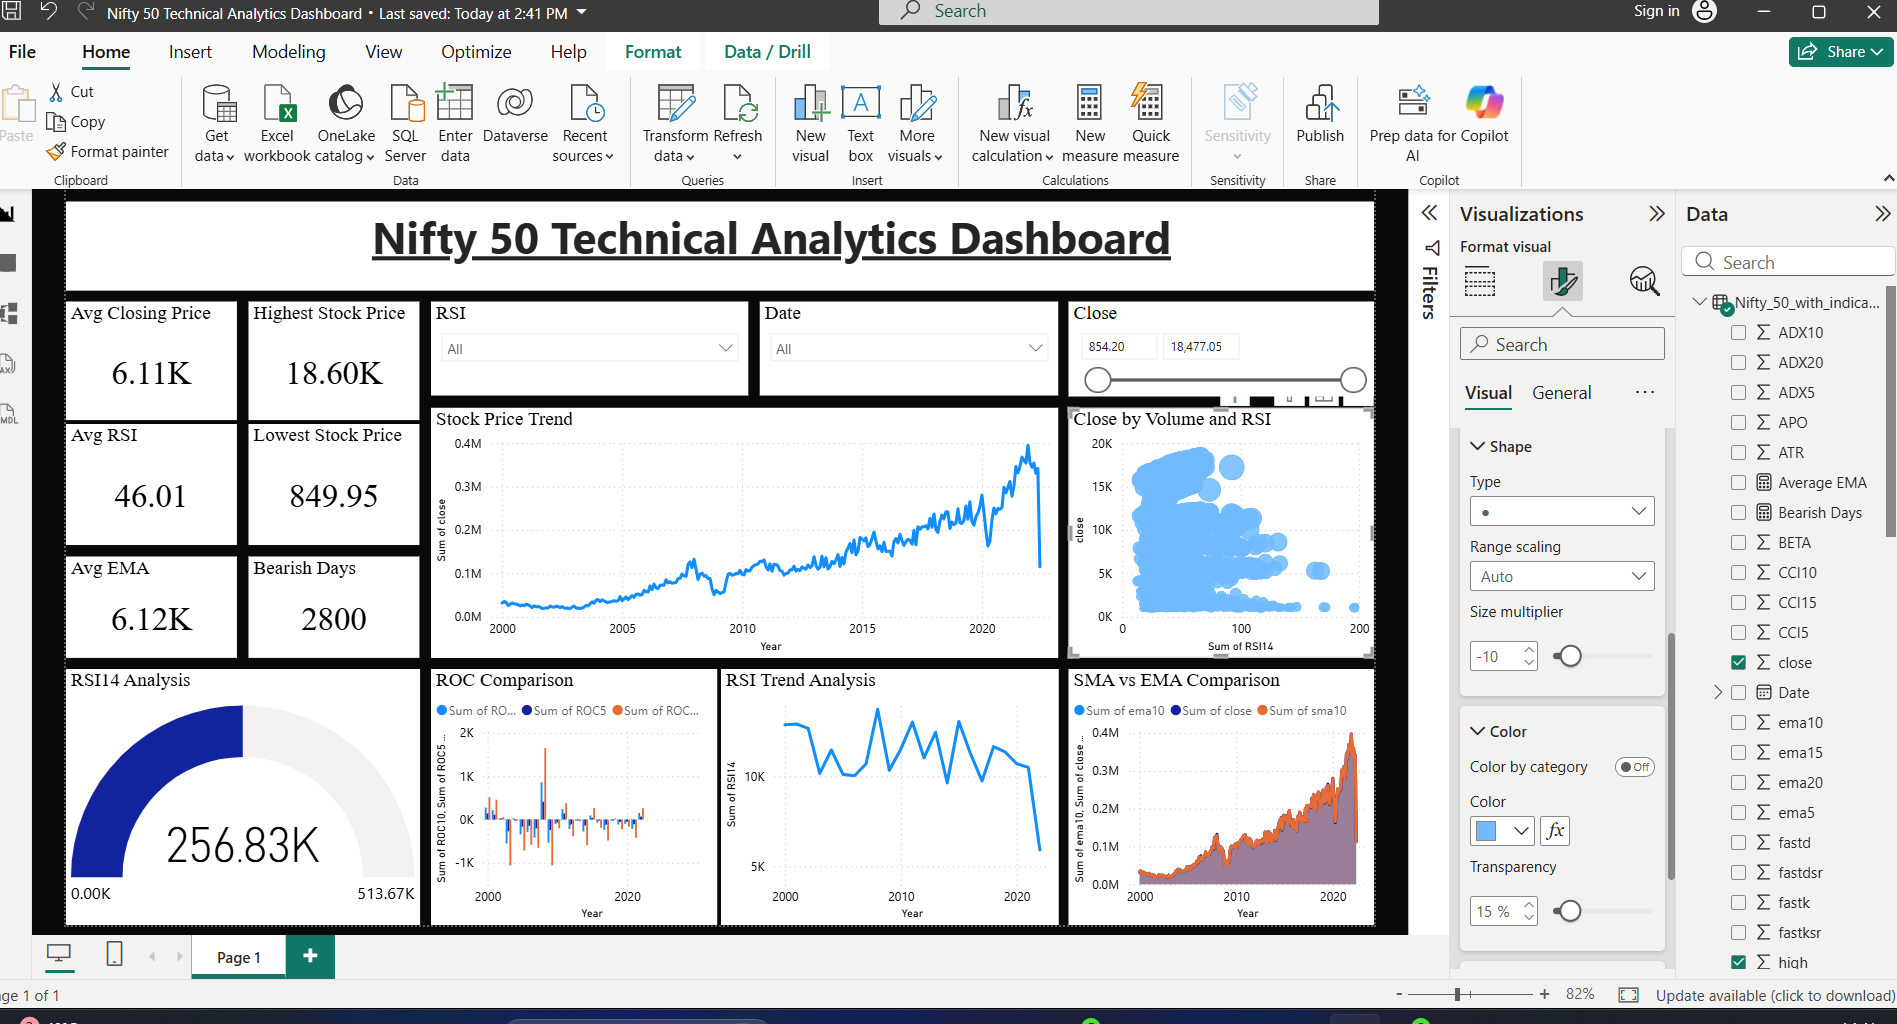

This screenshot's page, from the dashboard's own definition file:
{"tool":"powerbi","page":{"name":"Page 1","canvas":[1280,720],"ordinal":0},"visuals":[{"type":"card","title":"Avg Closing Price","fields":{"Values":["Avg(Nifty_50_with_indicators_.close)"]},"box":[0,110.1,167.5,116.2],"z":0},{"type":"card","title":"Avg RSI","fields":{"Values":["Avg(Nifty_50_with_indicators_.RSI14)"]},"box":[0,229.9,167.5,118.6],"z":1000},{"type":"card","title":"Avg EMA","fields":{"Values":["Nifty_50_with_indicators_.Average EMA"]},"box":[0,359.5,167.5,99],"z":2000},{"type":"card","title":"Highest Stock Price","fields":{"Values":["Max(Nifty_50_with_indicators_.high)"]},"box":[178.5,110.1,167.5,116.2],"z":3000},{"type":"card","title":"Lowest Stock Price","fields":{"Values":["Min(Nifty_50_with_indicators_.low)"]},"box":[178.5,229.9,167.5,118.6],"z":4000},{"type":"card","title":"Bearish Days","fields":{"Values":["Nifty_50_with_indicators_.Bearish Days"]},"box":[178.5,359.5,167.5,99],"z":5000},{"type":"scatterChart","title":"Close by Volume and RSI","fields":{"X":["Sum(Nifty_50_with_indicators_.RSI14)"],"Y":["Nifty_50_with_indicators_.close"],"Size":["Sum(Nifty_50_with_indicators_.high)"]},"box":[980.7,214,299.6,244.6],"z":6000},{"type":"clusteredColumnChart","title":"ROC Comparison","fields":{"Category":["Nifty_50_with_indicators_.Date.Variation.Date Hierarchy.Year","Nifty_50_with_indicators_.Date.Variation.Date Hierarchy.Month"],"Y":["Sum(Nifty_50_with_indicators_.ROC10)","Sum(Nifty_50_with_indicators_.ROC5)","Sum(Nifty_50_with_indicators_.ROC20)"]},"box":[357.1,469.6,280,250.7],"z":7000},{"type":"areaChart","title":"SMA vs EMA Comparison","fields":{"Category":["Nifty_50_with_indicators_.Date.Variation.Date Hierarchy.Year","Nifty_50_with_indicators_.Date.Variation.Date Hierarchy.Month"],"Y":["Sum(Nifty_50_with_indicators_.ema10)","Sum(Nifty_50_with_indicators_.close)","Sum(Nifty_50_with_indicators_.sma10)"]},"box":[980.7,469.6,299.6,250.7],"z":9000},{"type":"lineChart","title":"Stock Price Trend","fields":{"Category":["Nifty_50_with_indicators_.Date.Variation.Date Hierarchy.Year","Nifty_50_with_indicators_.Date.Variation.Date Hierarchy.Month"],"Y":["Sum(Nifty_50_with_indicators_.close)"]},"box":[357.1,214,613.9,244.6],"z":11000},{"type":"gauge","title":" RSI14 Analysis","fields":{"Y":["Sum(Nifty_50_with_indicators_.RSI14)"]},"box":[0,469.6,346.1,250.7],"z":12000},{"type":"slicer","title":"RSI","fields":{"Values":["Nifty_50_with_indicators_.RSI14"]},"box":[357.1,110.1,310.6,91.7],"z":13000},{"type":"slicer","title":"Close","fields":{"Values":["Nifty_50_with_indicators_.close"]},"box":[980.7,110.1,299.6,91.7],"z":16000},{"type":"slicer","title":"Date","fields":{"Values":["Nifty_50_with_indicators_.Date"]},"box":[678.7,110.1,292.3,91.7],"z":17000},{"type":"textbox","box":[0,12.2,1280.3,86.8],"z":17001},{"type":"lineChart","title":" RSI Trend Analysis","fields":{"Category":["Nifty_50_with_indicators_.Date.Variation.Date Hierarchy.Year","Nifty_50_with_indicators_.Date.Variation.Date Hierarchy.Month"],"Y":["Sum(Nifty_50_with_indicators_.RSI14)"]},"box":[640.8,469.6,330.2,250.7],"z":17002}]}

Visuals, with their boxes on the page's 1280x720 design canvas (x1, y1, x2, y2). These are canvas units, not pixel positions in the 1897x1024 screenshot, which may show the page scaled, cropped or inside an application window:
"Avg Closing Price" card: select_region(0, 110, 168, 226)
"Avg RSI" card: select_region(0, 230, 168, 348)
"Avg EMA" card: select_region(0, 360, 168, 458)
"Highest Stock Price" card: select_region(178, 110, 346, 226)
"Lowest Stock Price" card: select_region(178, 230, 346, 348)
"Bearish Days" card: select_region(178, 360, 346, 458)
"Close by Volume and RSI" scatterChart: select_region(981, 214, 1280, 459)
"ROC Comparison" clusteredColumnChart: select_region(357, 470, 637, 720)
"SMA vs EMA Comparison" areaChart: select_region(981, 470, 1280, 720)
"Stock Price Trend" lineChart: select_region(357, 214, 971, 459)
" RSI14 Analysis" gauge: select_region(0, 470, 346, 720)
"RSI" slicer: select_region(357, 110, 668, 202)
"Close" slicer: select_region(981, 110, 1280, 202)
"Date" slicer: select_region(679, 110, 971, 202)
textbox: select_region(0, 12, 1280, 99)
" RSI Trend Analysis" lineChart: select_region(641, 470, 971, 720)
